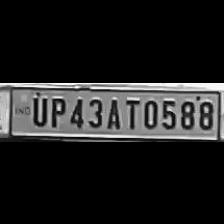0: (140, 96, 158, 128)
3: (86, 94, 102, 128)
4: (66, 93, 84, 126)
5: (158, 96, 176, 130)
8: (196, 96, 214, 130), (176, 96, 194, 128)
A: (104, 95, 120, 129)
P: (47, 94, 65, 126)
T: (121, 95, 139, 129)
U: (29, 94, 47, 126)
